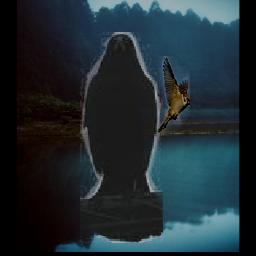Crow: (81, 33, 164, 244)
Sparrow: (158, 56, 191, 136)
